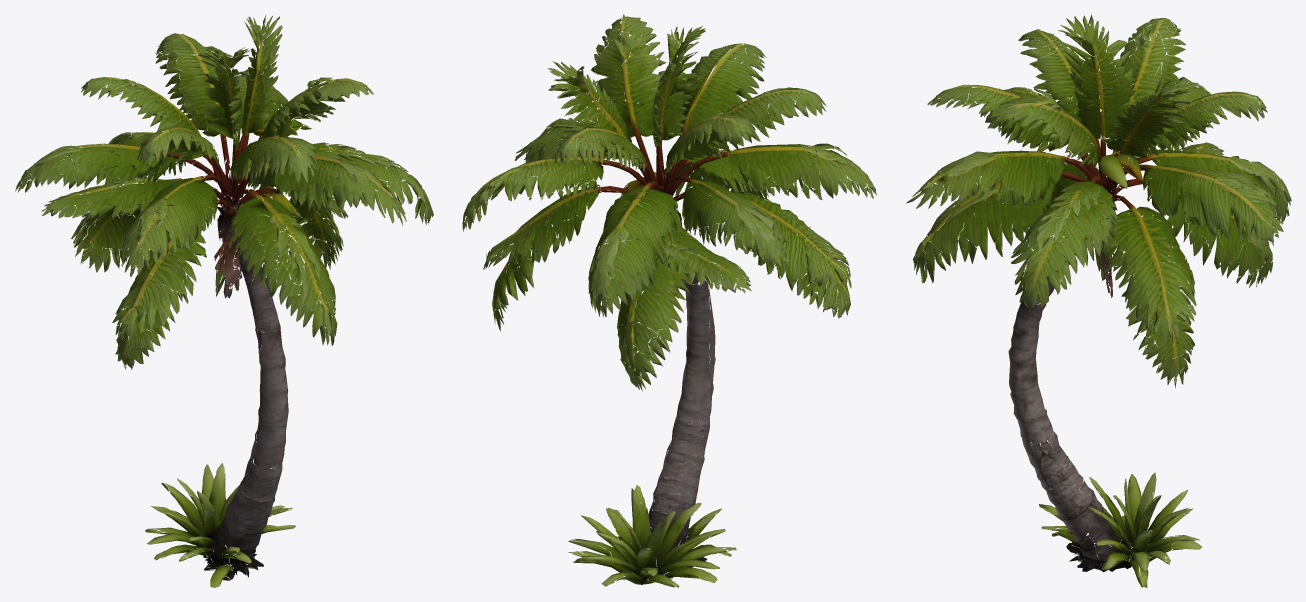
The model's file is palm_tall.glb.
3 renders of one model, left to right at view 1: azimuth 30°, elevation 25°; view 2: azimuth 150°, elevation 25°; view 3: azimuth 270°, elevation 25°, orthographic.
Parts seen in each view (by area): view 1: tripo_node_6e40aced-1418-467c-a66c-5f9f42384bc3; view 2: tripo_node_6e40aced-1418-467c-a66c-5f9f42384bc3; view 3: tripo_node_6e40aced-1418-467c-a66c-5f9f42384bc3.
Part boxes in pixels (left/top/right/bottom): tripo_node_6e40aced-1418-467c-a66c-5f9f42384bc3: left=15, top=15, right=433, bottom=587; tripo_node_6e40aced-1418-467c-a66c-5f9f42384bc3: left=462, top=14, right=876, bottom=587; tripo_node_6e40aced-1418-467c-a66c-5f9f42384bc3: left=906, top=14, right=1291, bottom=587.
Bounding box in the file's own units: 0.6623 × 1 × 0.6565.
Materials: 1 (1 with a texture image).
